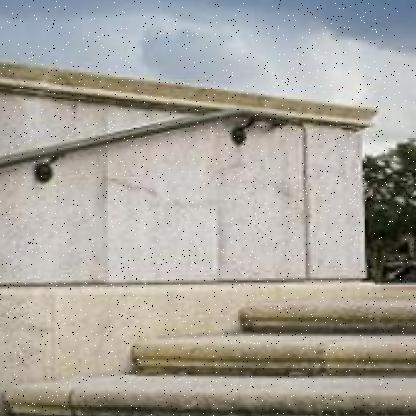stair_up: (5, 241, 416, 415)
